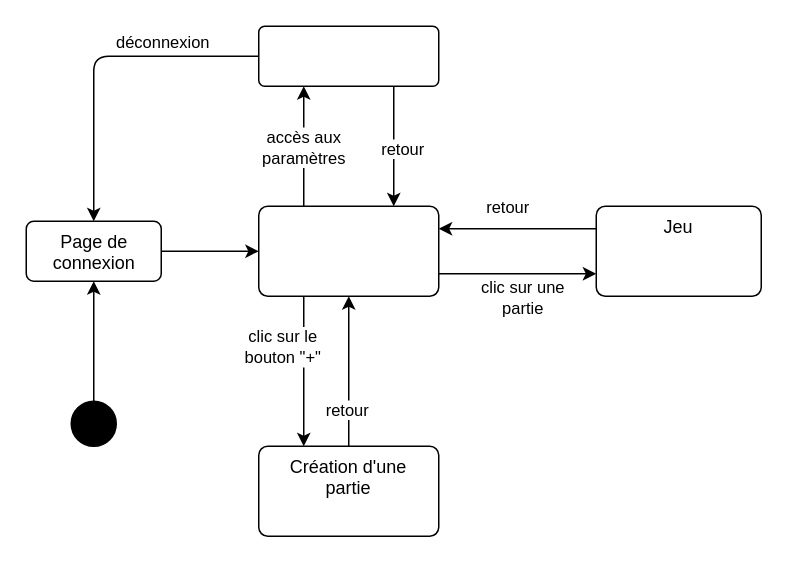
Some shapes in this 788 by 563 pixel diagram are drawn without their labels. The box of each missing label's shape, as (x1, y1, x2, y2) in pixels:
Liste des parties: (257, 205, 439, 296)
Paramètres utilisateur: (257, 25, 439, 86)
